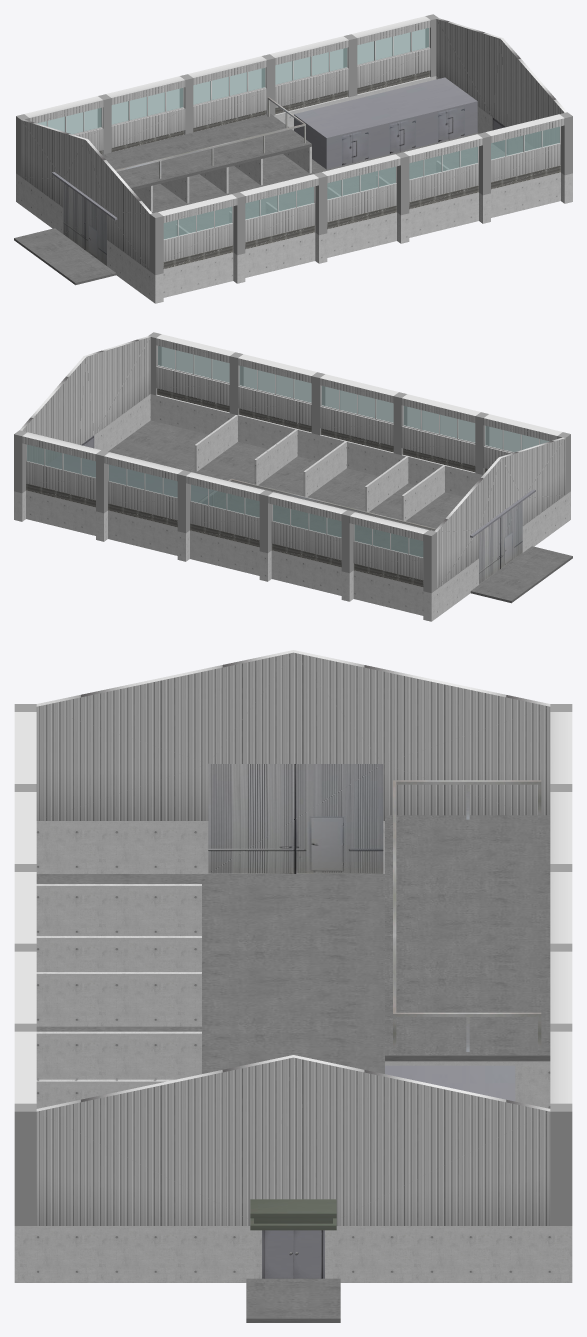
Rendered from waste-storage-1F.glb.
3 renders of one model, top to bottom at view 1: azimuth 30°, elevation 25°; view 2: azimuth 150°, elevation 25°; view 3: azimuth 270°, elevation 25°, orthographic. The views are drawn at different scales.
Parts seen in each view (by area): view 1: waste-storage, Rectangle764, Line1131, Box764, Box759, Box761, Rectangle763; view 2: waste-storage, Rectangle764, Line1131, Box759, Box764, Box761, Rectangle763; view 3: waste-storage, Box764, Line1131, Box761, Box760, Box767.
Boxes of the visible parts, bbox=[...] form: waste-storage: bbox=[16, 14, 572, 303]; Rectangle764: bbox=[37, 28, 559, 239]; Line1131: bbox=[14, 132, 506, 285]; Box764: bbox=[102, 97, 311, 190]; Box759: bbox=[99, 70, 560, 269]; Box761: bbox=[52, 172, 117, 265]; Rectangle763: bbox=[47, 27, 560, 240]; waste-storage: bbox=[14, 332, 570, 621]; Rectangle764: bbox=[27, 346, 549, 557]; Line1131: bbox=[108, 420, 572, 603]; Box759: bbox=[26, 388, 487, 587]; Box764: bbox=[199, 478, 436, 556]; Box761: bbox=[470, 489, 535, 584]; Rectangle763: bbox=[26, 345, 539, 558]; waste-storage: bbox=[14, 650, 572, 1282]; Box764: bbox=[385, 780, 550, 1061]; Line1131: bbox=[36, 874, 384, 1322]; Box761: bbox=[208, 764, 383, 873]; Box760: bbox=[262, 1230, 324, 1278]; Box767: bbox=[250, 1199, 336, 1230].
Size of the model in its own units: 36.6 by 7.9 by 17.7.
Materials: 15 (14 with a texture image).
